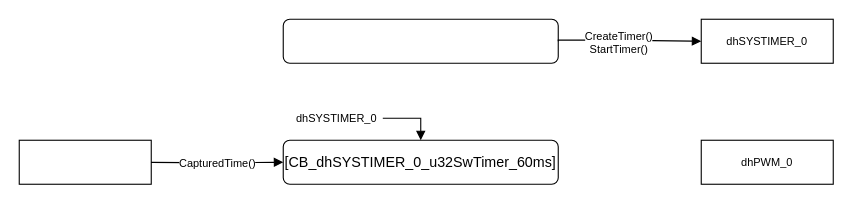
Some shapes in this 853 by 204 pixel diagram are drawn without their labels. The shapes that lost their labels are listed below. From the top down, each one's box as (x1, y1, x2, y2) in pixels, then its label:
(282, 18, 558, 63): main()
(18, 139, 151, 184): dhCAPTURE_0
